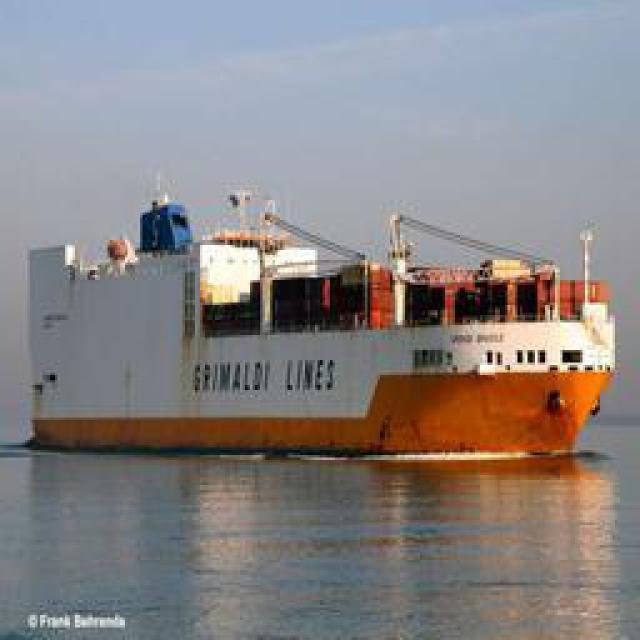Ship: (46, 189, 614, 462)
